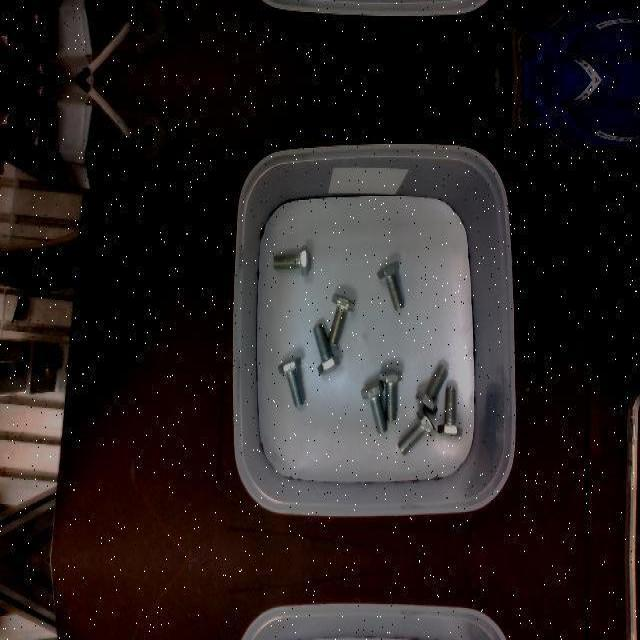screw: (397, 407, 436, 455), (415, 364, 448, 414), (361, 380, 388, 434), (312, 322, 340, 374), (328, 293, 355, 345), (376, 261, 404, 311), (278, 356, 305, 406), (437, 387, 463, 437), (378, 369, 402, 421), (273, 245, 309, 275)
